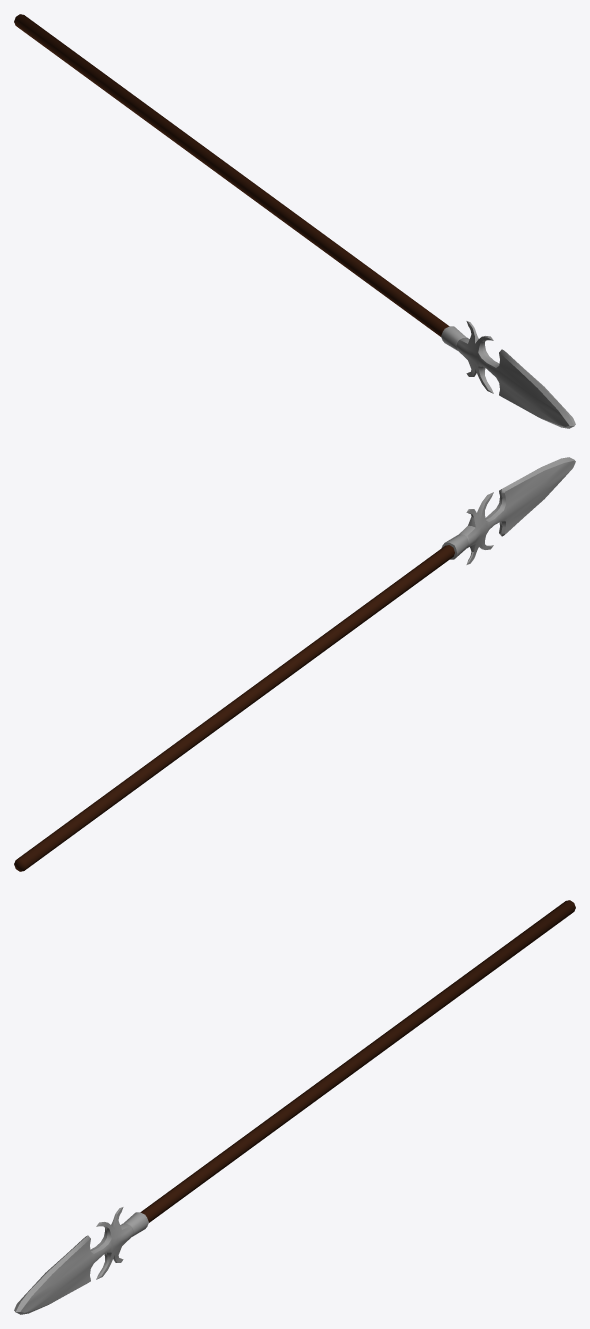
File: Mesh_Spear.FBX
3 views of the same model, one above another, from view 1: azimuth 30°, elevation 25°; view 2: azimuth 150°, elevation 25°; view 3: azimuth 330°, elevation 25° (orthographic).
Parts seen in each view (by area): view 1: Spear; view 2: Spear; view 3: Spear.
Boxes of the visible parts, left/top/right/bottom form: Spear: left=14, top=14, right=575, bottom=428; Spear: left=14, top=457, right=575, bottom=871; Spear: left=14, top=900, right=575, bottom=1314.
Bounding box in the file's own units: 0.9139 × 2.93 × 53.99.
